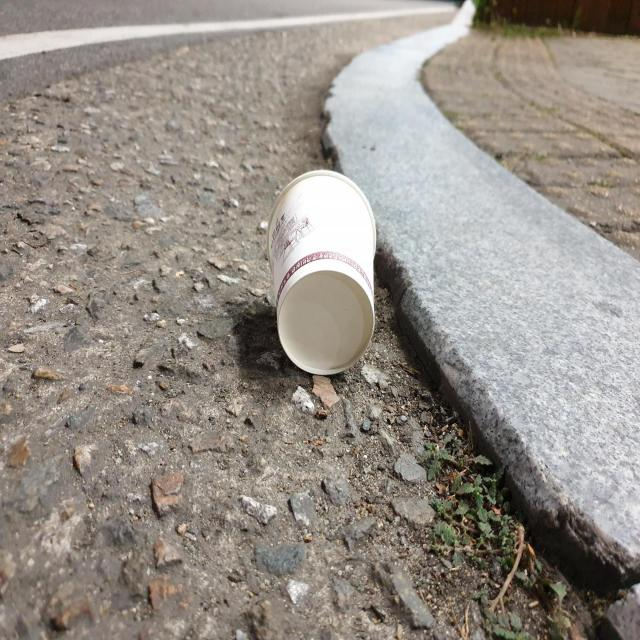paperpack: (268, 169, 376, 375)
